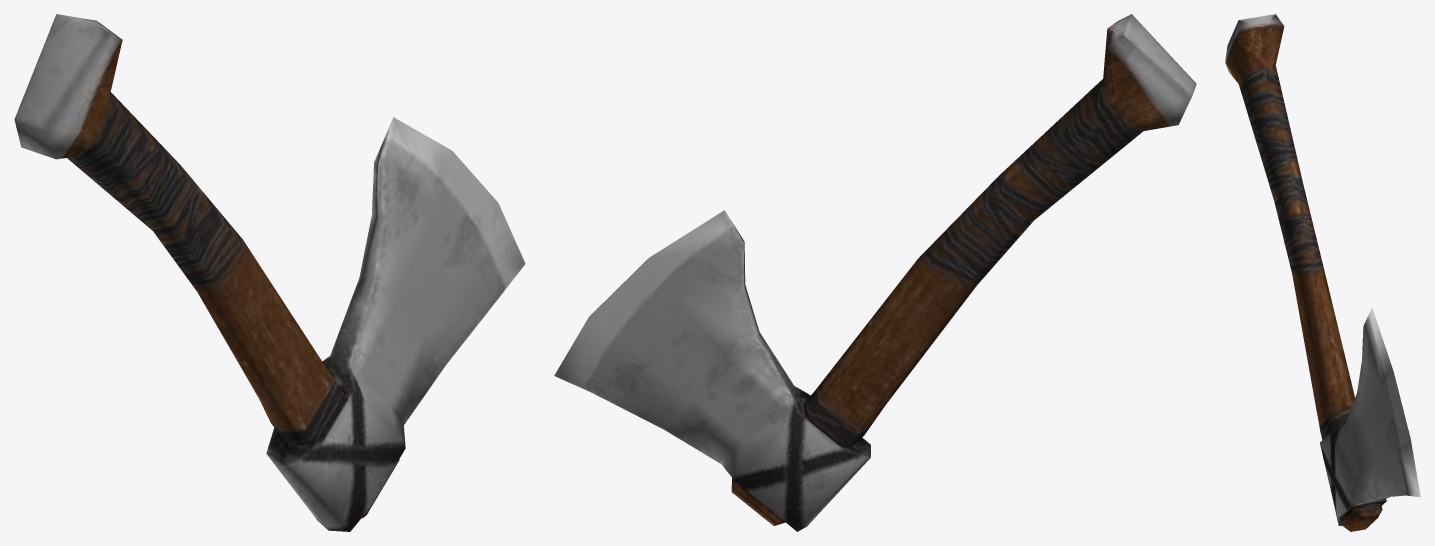
Rendered from weapon-copperweapons.glb.
3 views of the same model, side by side, from view 1: azimuth 30°, elevation 25°; view 2: azimuth 150°, elevation 25°; view 3: azimuth 270°, elevation 25° (orthographic). The views are drawn at different scales.
Bounding box in the file's own units: 0.7894 × 0.7466 × 0.3256.
Materials: 1 (1 with a texture image).
